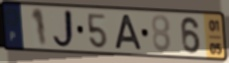1: (29, 7, 49, 49)
5: (85, 13, 110, 50)
6: (180, 16, 202, 55)
8: (150, 13, 174, 55)
A: (113, 13, 144, 52)
J: (51, 8, 78, 51)
